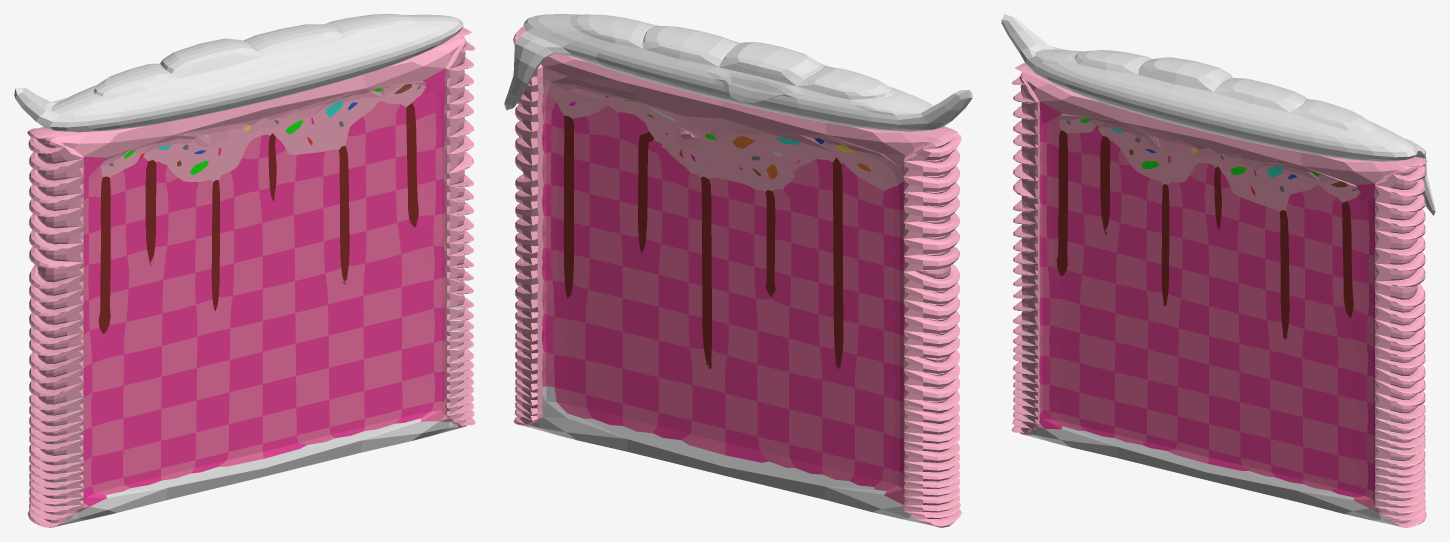
File: wall.fbx
3 renders of one model, left to right at view 1: azimuth 30°, elevation 25°; view 2: azimuth 150°, elevation 25°; view 3: azimuth 330°, elevation 25°, orthographic. The views are drawn at different scales.
Parts seen in each view (by area): view 1: Cube.001; view 2: Cube.001; view 3: Cube.001.
Boxes of the visible parts, left/top/right/bottom form: Cube.001: left=14, top=14, right=475, bottom=527; Cube.001: left=504, top=14, right=972, bottom=527; Cube.001: left=1001, top=14, right=1435, bottom=527.
Size of the model in its own units: 9.64 by 8.96 by 1.66.
